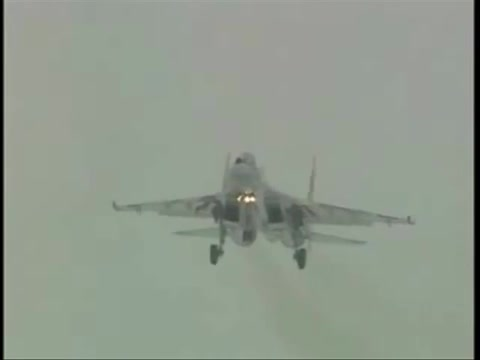aeroplane: (112, 148, 415, 276)
